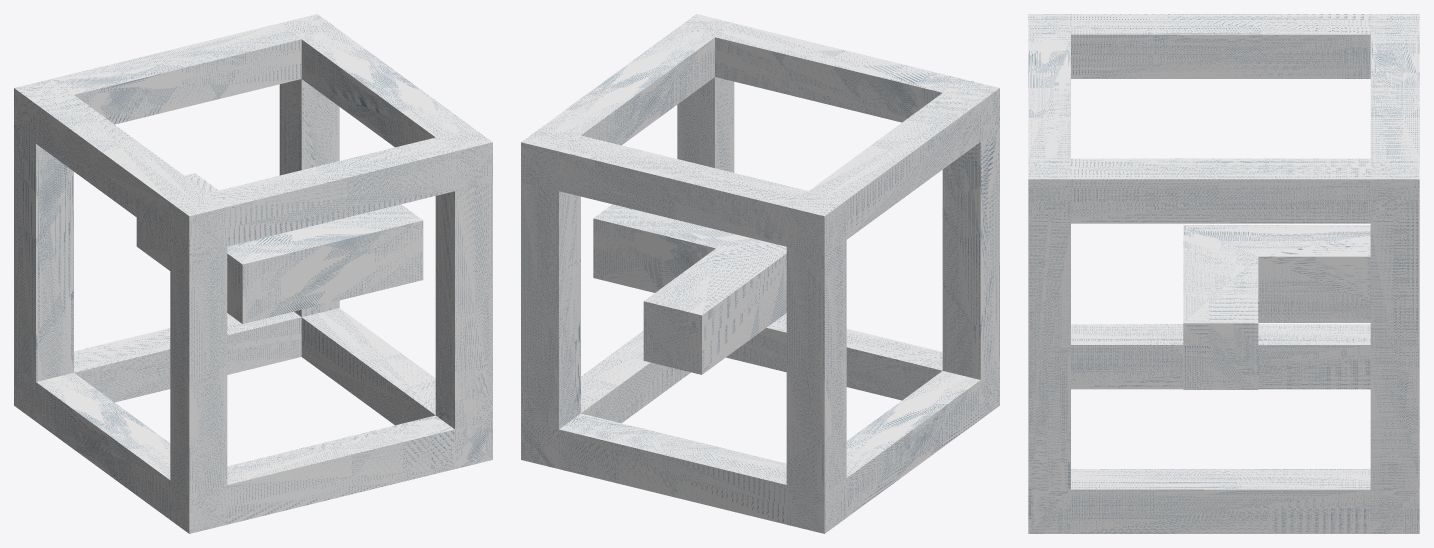
3 renders of one model, left to right at view 1: azimuth 30°, elevation 25°; view 2: azimuth 150°, elevation 25°; view 3: azimuth 270°, elevation 25°, orthographic. The views are drawn at different scales.
Visible parts, largest first — view 1: Model; view 2: Model; view 3: Model.
Boxes of the visible parts, bbox=[...] form: Model: bbox=[14, 14, 492, 533]; Model: bbox=[521, 14, 999, 533]; Model: bbox=[1028, 14, 1419, 533].
Bounding box in the file's own units: 8.24 × 8.24 × 8.24.
